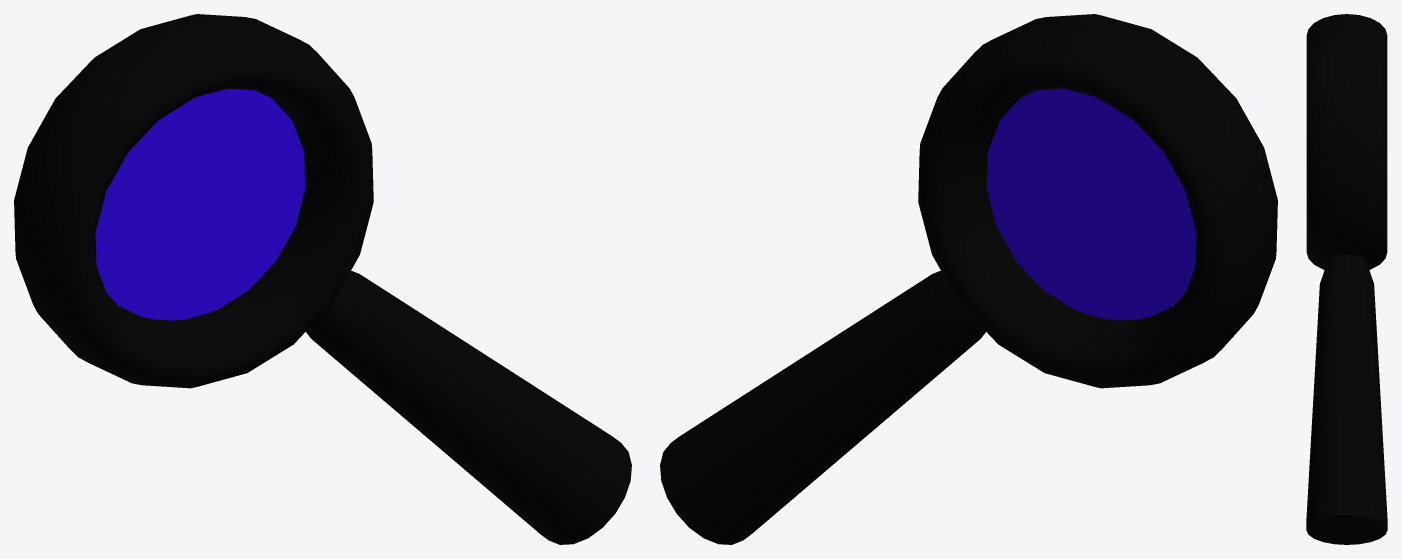
The model's file is lupa.fbx.
3 renders of one model, left to right at view 1: azimuth 30°, elevation 25°; view 2: azimuth 150°, elevation 25°; view 3: azimuth 270°, elevation 25°, orthographic. The views are drawn at different scales.
Parts seen in each view (by area): view 1: pCylinder3; view 2: pCylinder3; view 3: pCylinder3.
Part boxes in pixels (x1,y1,x2,y2): pCylinder3: (14, 14, 631, 544); pCylinder3: (660, 14, 1277, 544); pCylinder3: (1306, 14, 1387, 544).
Bounding box in the file's own units: 39.14 × 37.81 × 6.94.
